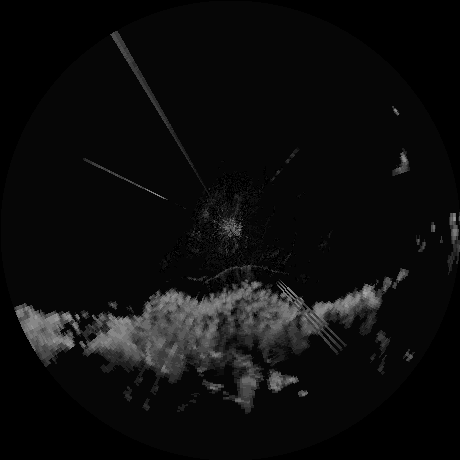frontgust: (190, 263, 263, 284)
